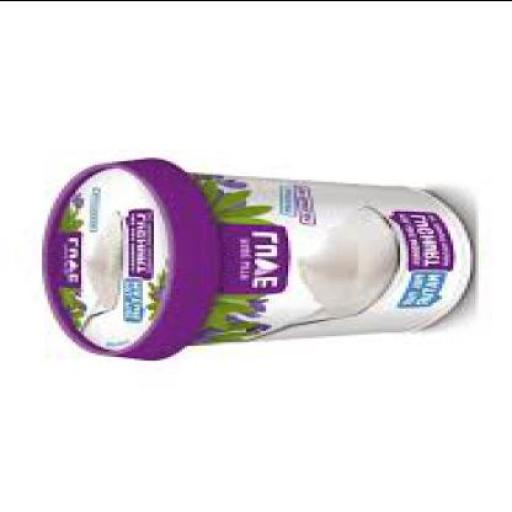plastic: (40, 156, 472, 358), (39, 156, 221, 358)
